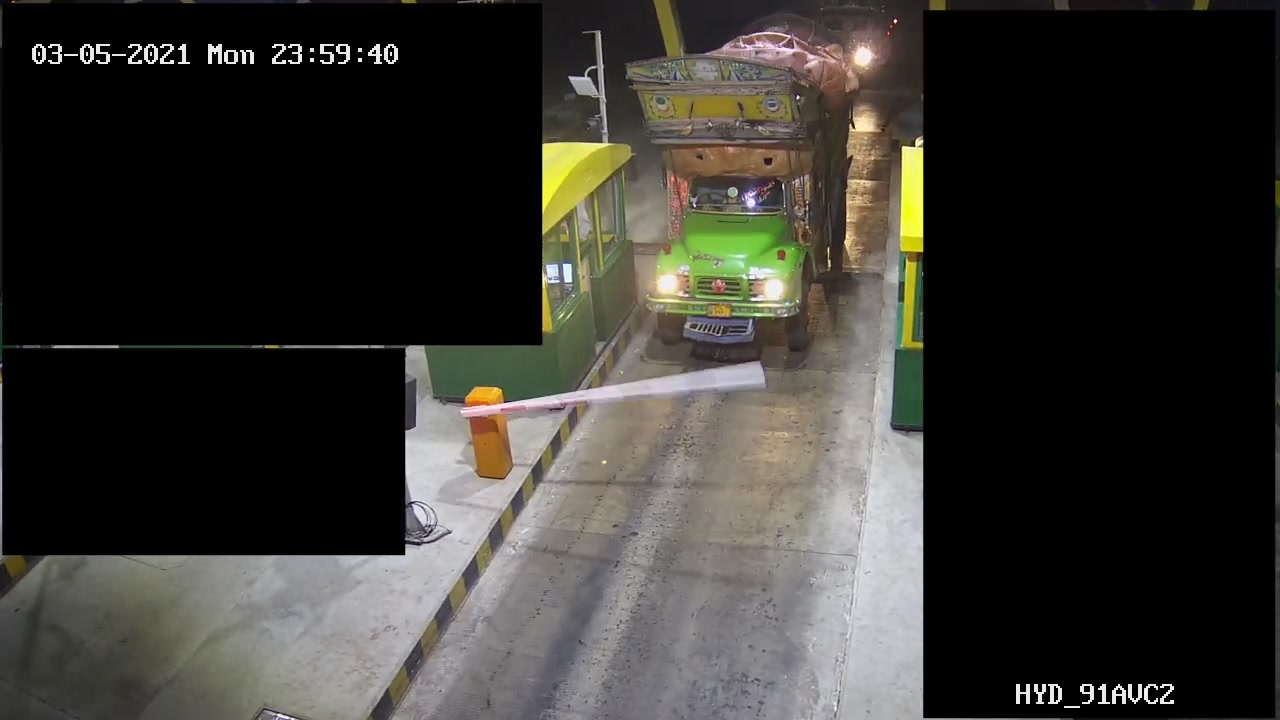F5: (611, 1, 863, 362)
